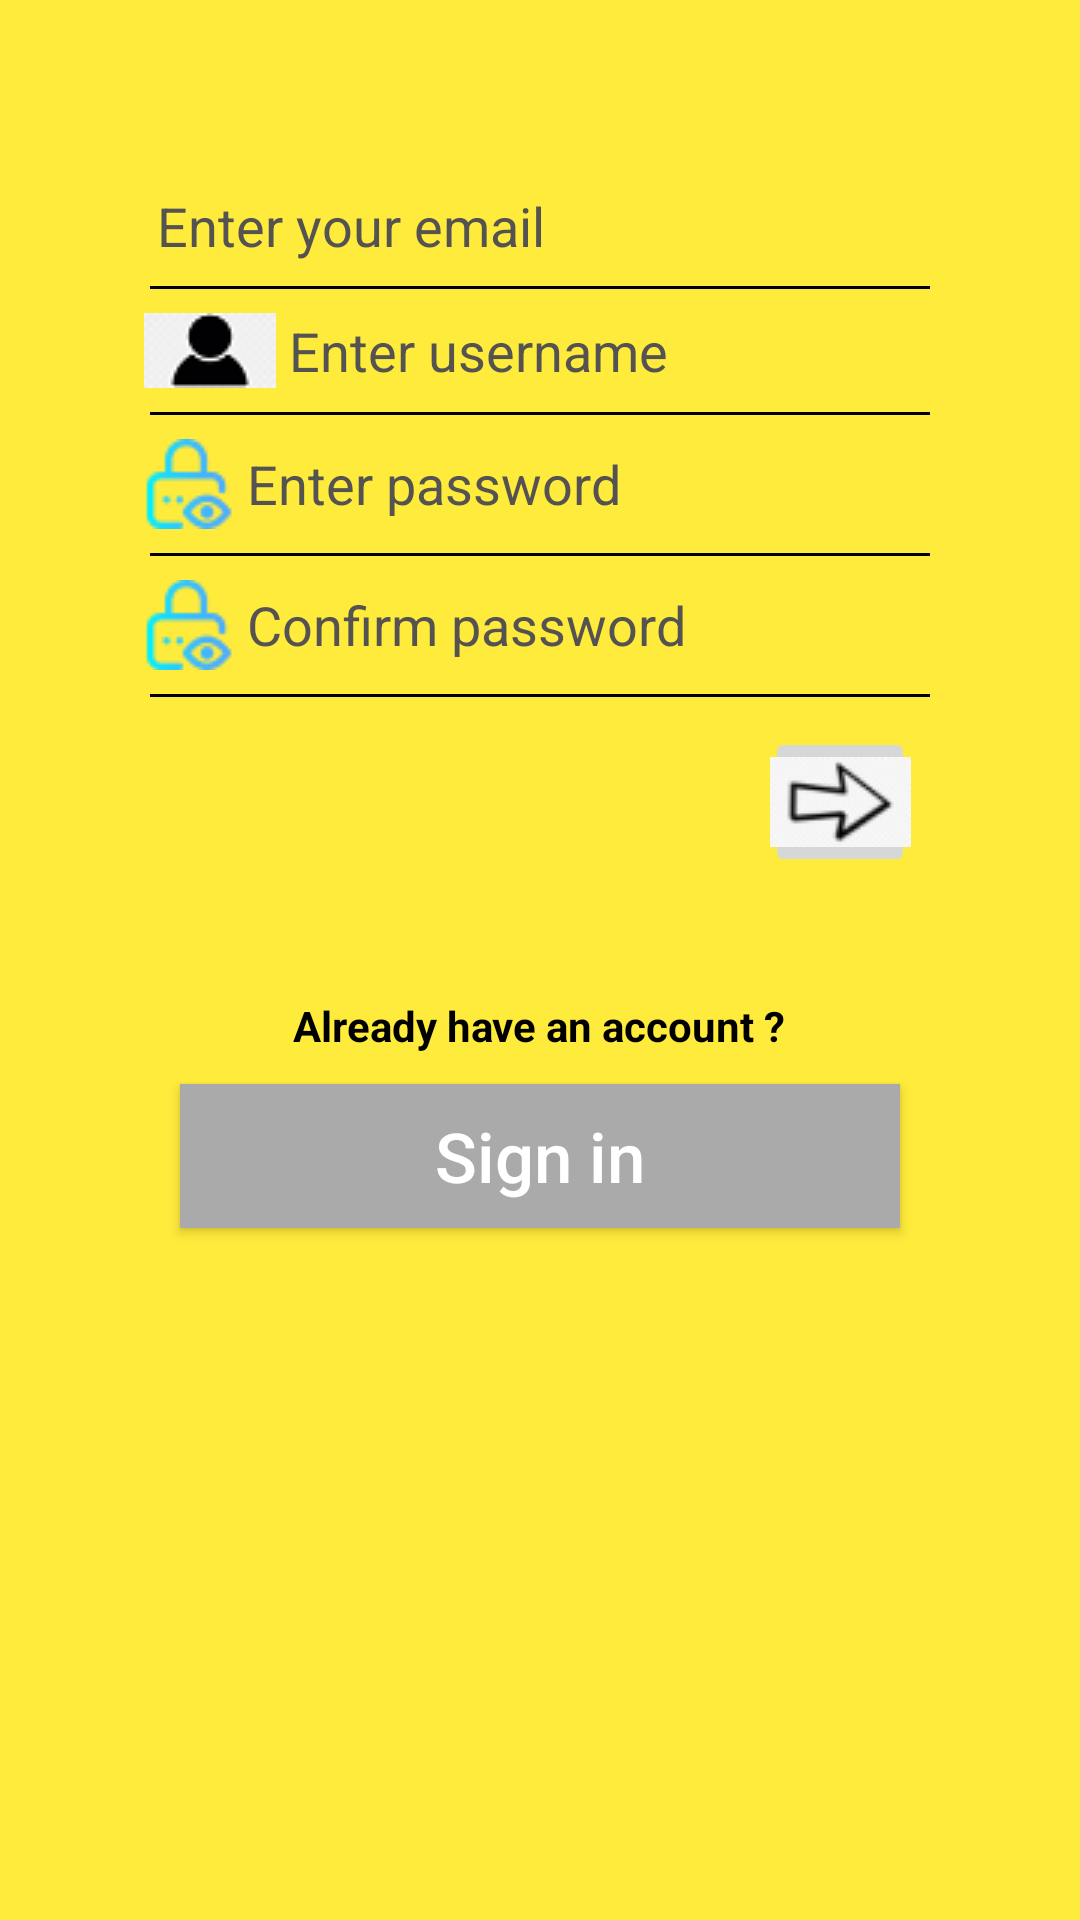

Icons on this 1080×1920 Android screen, each with its box as [x1=x1, y1=y1, x2=x2, y2=y2]:
rightarrow: [x1=770, y1=745, x2=911, y2=859]
